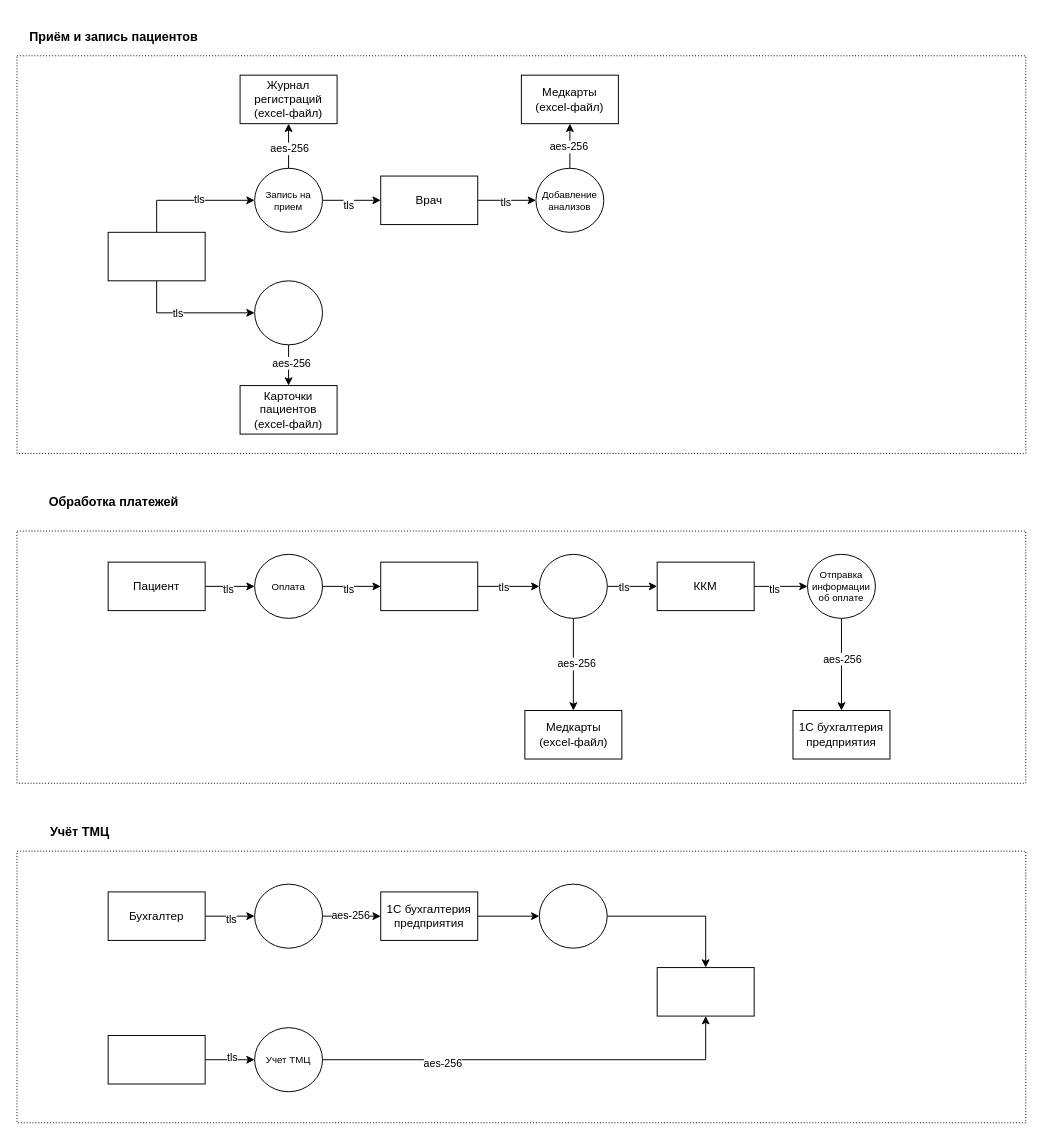
Image size: 1043x1140. Some labels were removed from this diagram. Here are the shapes that lost their labels. From the top down, the box of each, then its label:
(107, 231, 205, 281): Администратор
(254, 280, 323, 345): Регистрация пациента
(380, 561, 478, 611): Кассир
(538, 553, 607, 618): Принятие оплаты
(254, 883, 323, 948): Процессинг платежей
(538, 883, 607, 948): Обмен данными
(656, 967, 754, 1016): 1С торговля и склад
(107, 1035, 205, 1084): Сотрудник склада
